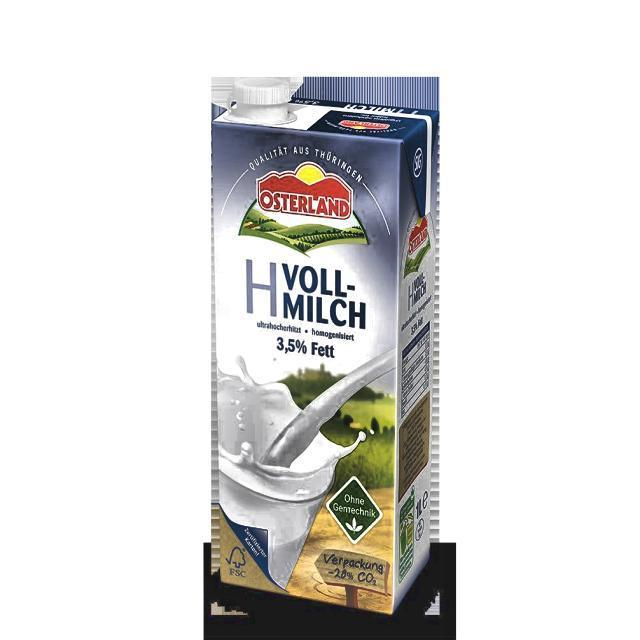cardboard: (209, 78, 441, 616)
